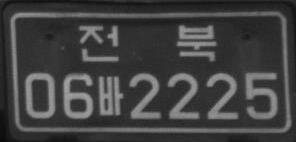0: (24, 71, 56, 119)
2: (206, 72, 240, 120), (167, 72, 200, 120), (129, 72, 160, 119)
5: (244, 71, 278, 120)
6: (62, 71, 94, 119)
바: (98, 75, 123, 115)
전북_D: (78, 24, 217, 62)
